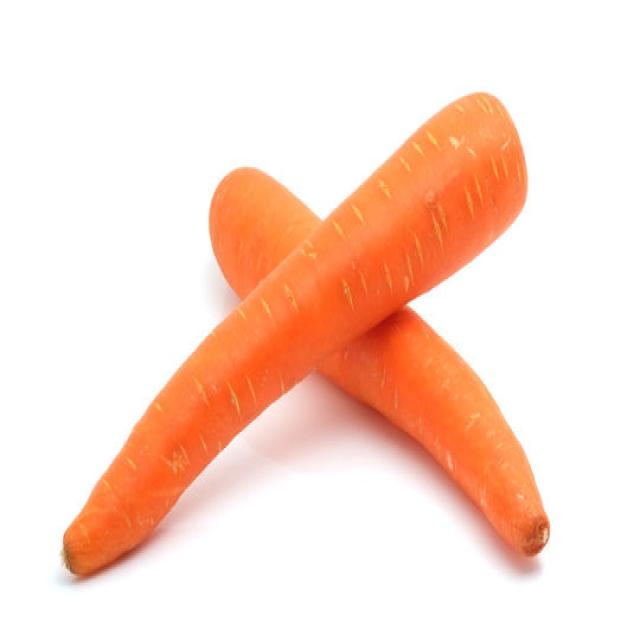Carrot: (207, 164, 550, 556)
